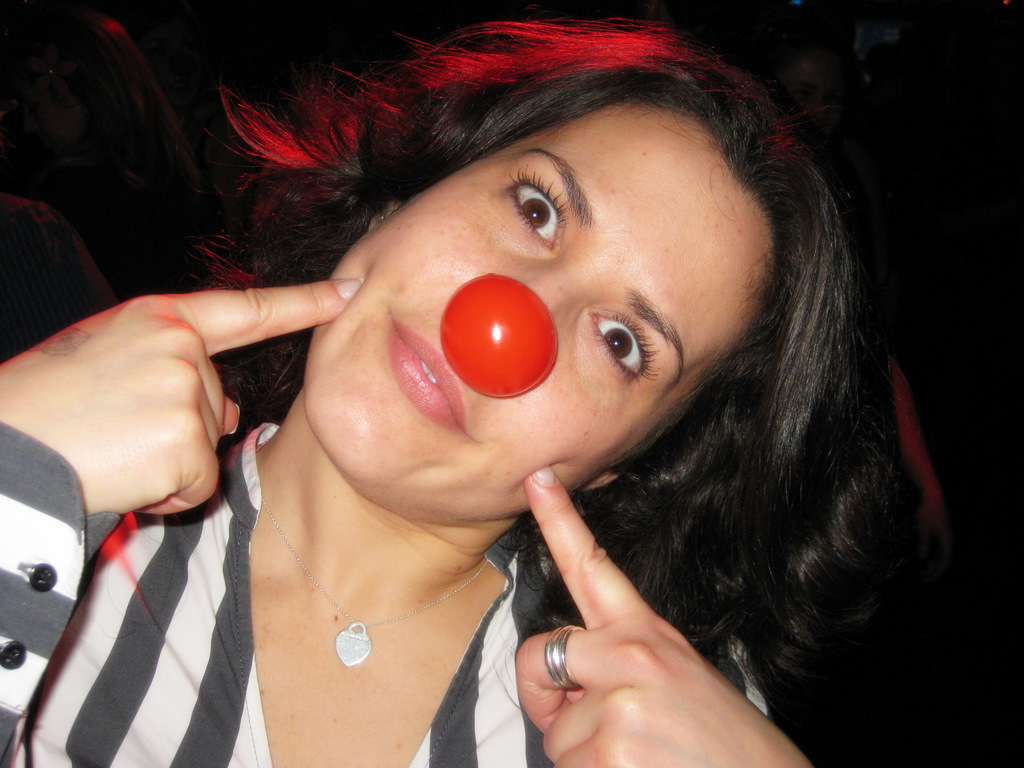Human_hand: (18, 192, 312, 568), (511, 459, 814, 767)
